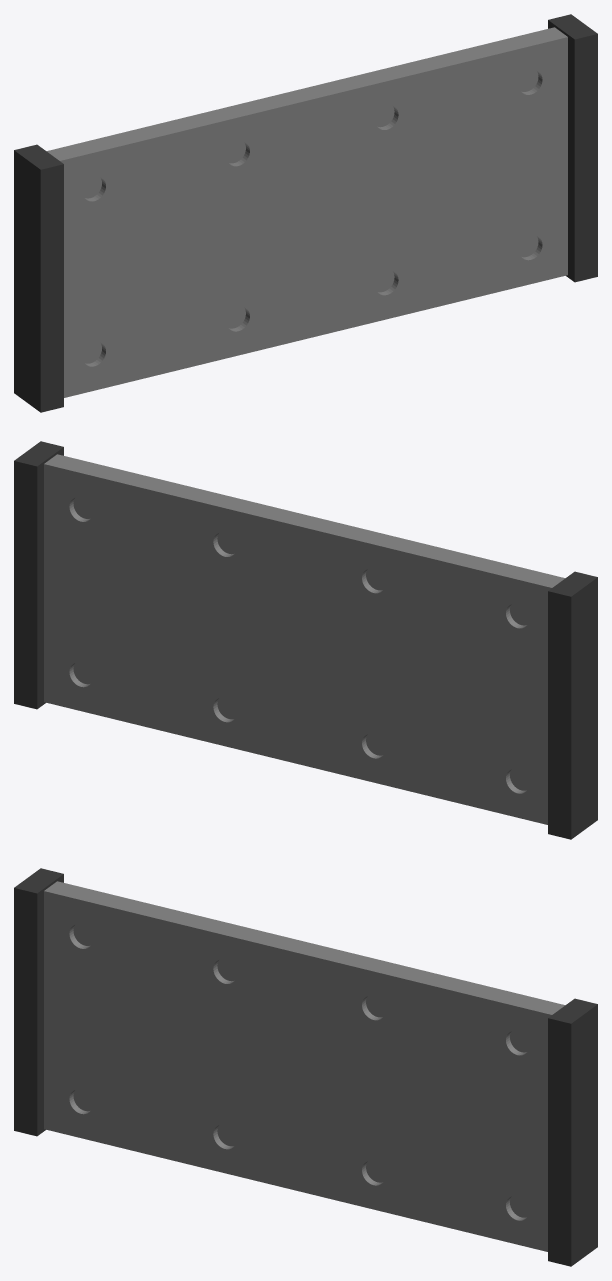
Rendered from wall.obj.
The picture shows the model from 3 angles, top to bottom: view 1: azimuth 30°, elevation 25°; view 2: azimuth 150°, elevation 25°; view 3: azimuth 330°, elevation 25°; orthographic projection.
Parts seen in each view (by area): view 1: 立方体.002; view 2: 立方体.002; view 3: 立方体.002.
Part boxes in pixels (x1,y1,x2,y2): 立方体.002: (14,14,597,412); 立方体.002: (14,441,597,839); 立方体.002: (14,868,597,1266).
Size of the model in its own units: 12 by 5 by 1.
1 material, 1 textured.
